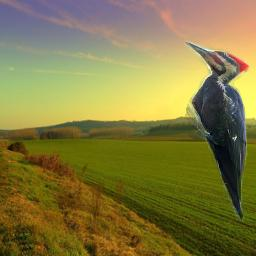Woodpecker: (182, 40, 251, 221)
